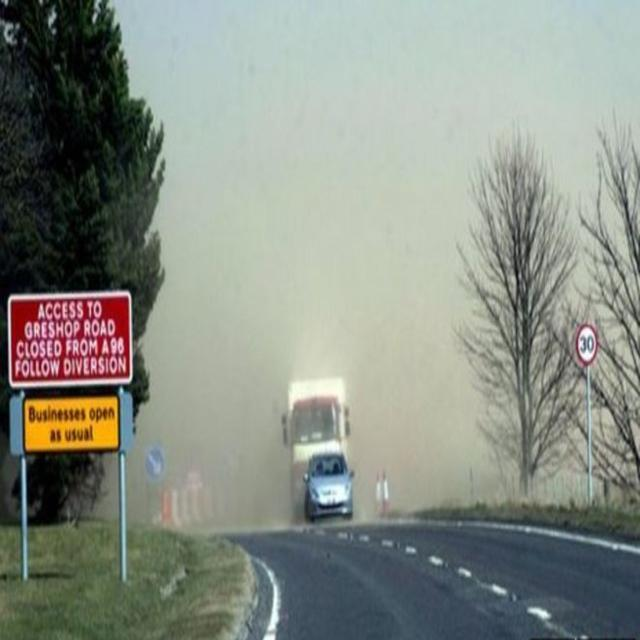car: (303, 453, 353, 521)
